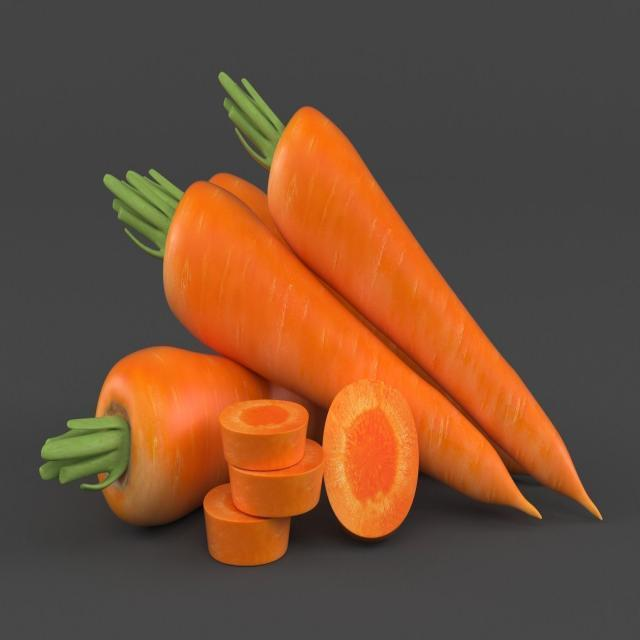carrot: (262, 105, 604, 530), (158, 173, 546, 530), (96, 341, 302, 528)
